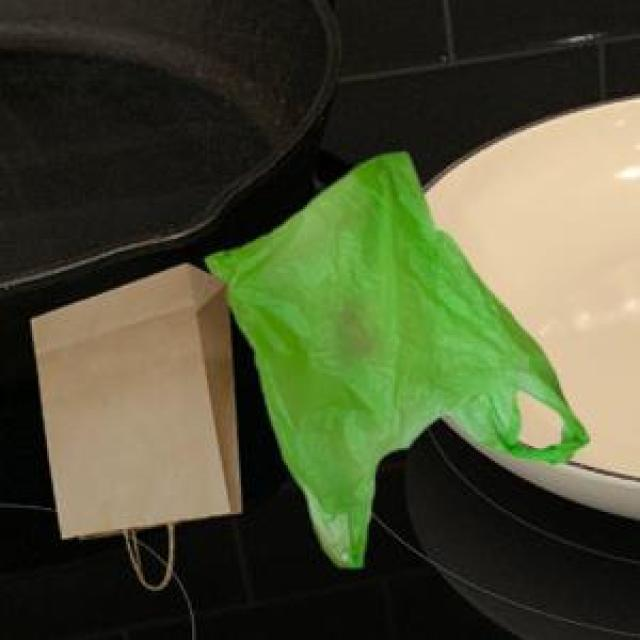paper: (28, 260, 237, 585)
